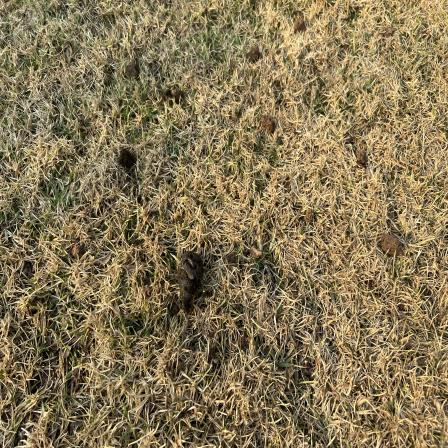dog-poop: (172, 244, 210, 316)
